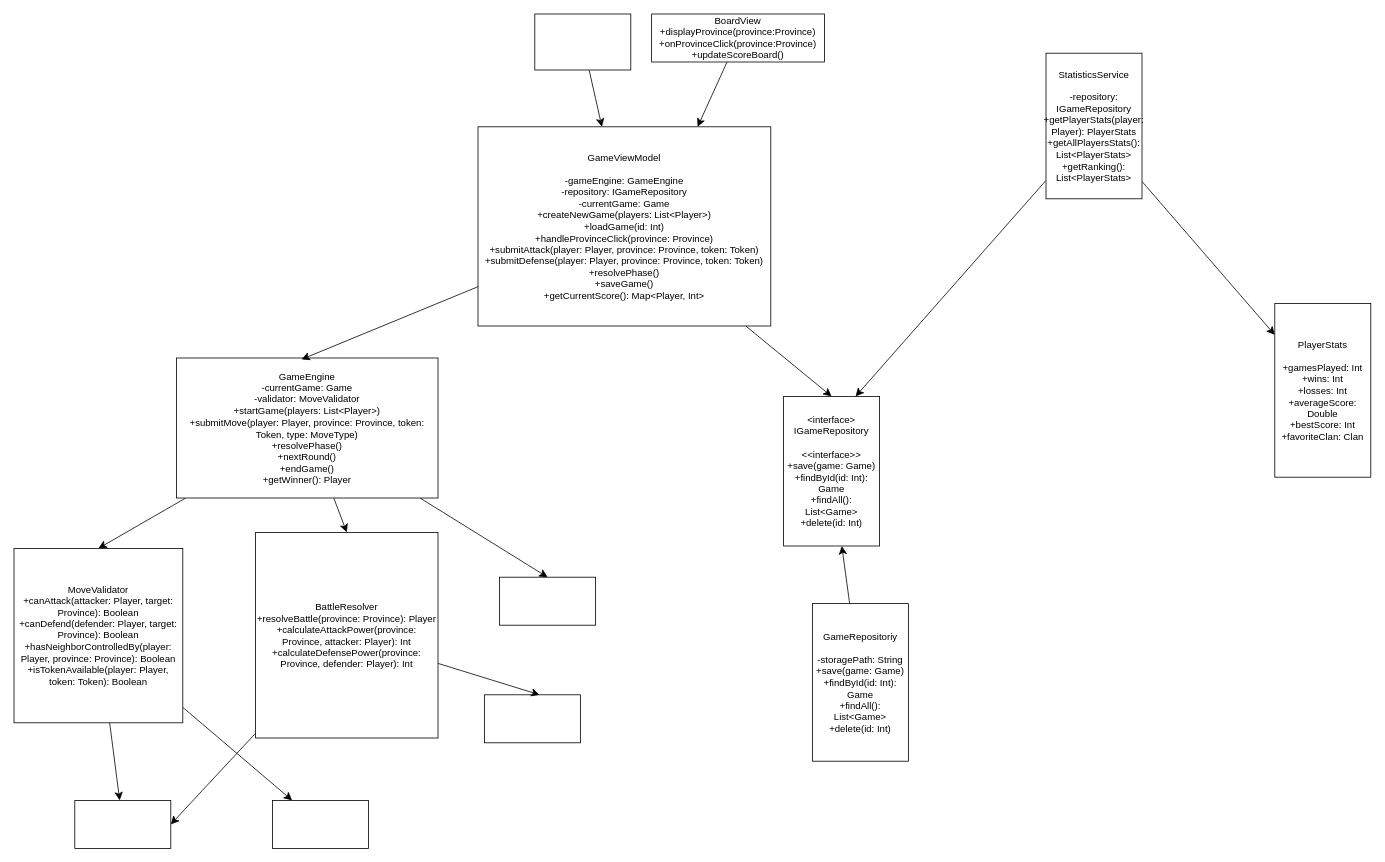
This 1385x862 diagram has some shape labels left out. The centre of each missing label's shape, as x and y in pixels:
"Action" belongs at pixel 532 718.
"Game" belongs at pixel 547 600.
"MainWindow +OpenGameScreen() +OpenStatsScreen()" belongs at pixel 582 41.
"Player" belongs at pixel 320 824.
"Province" belongs at pixel 122 824.
